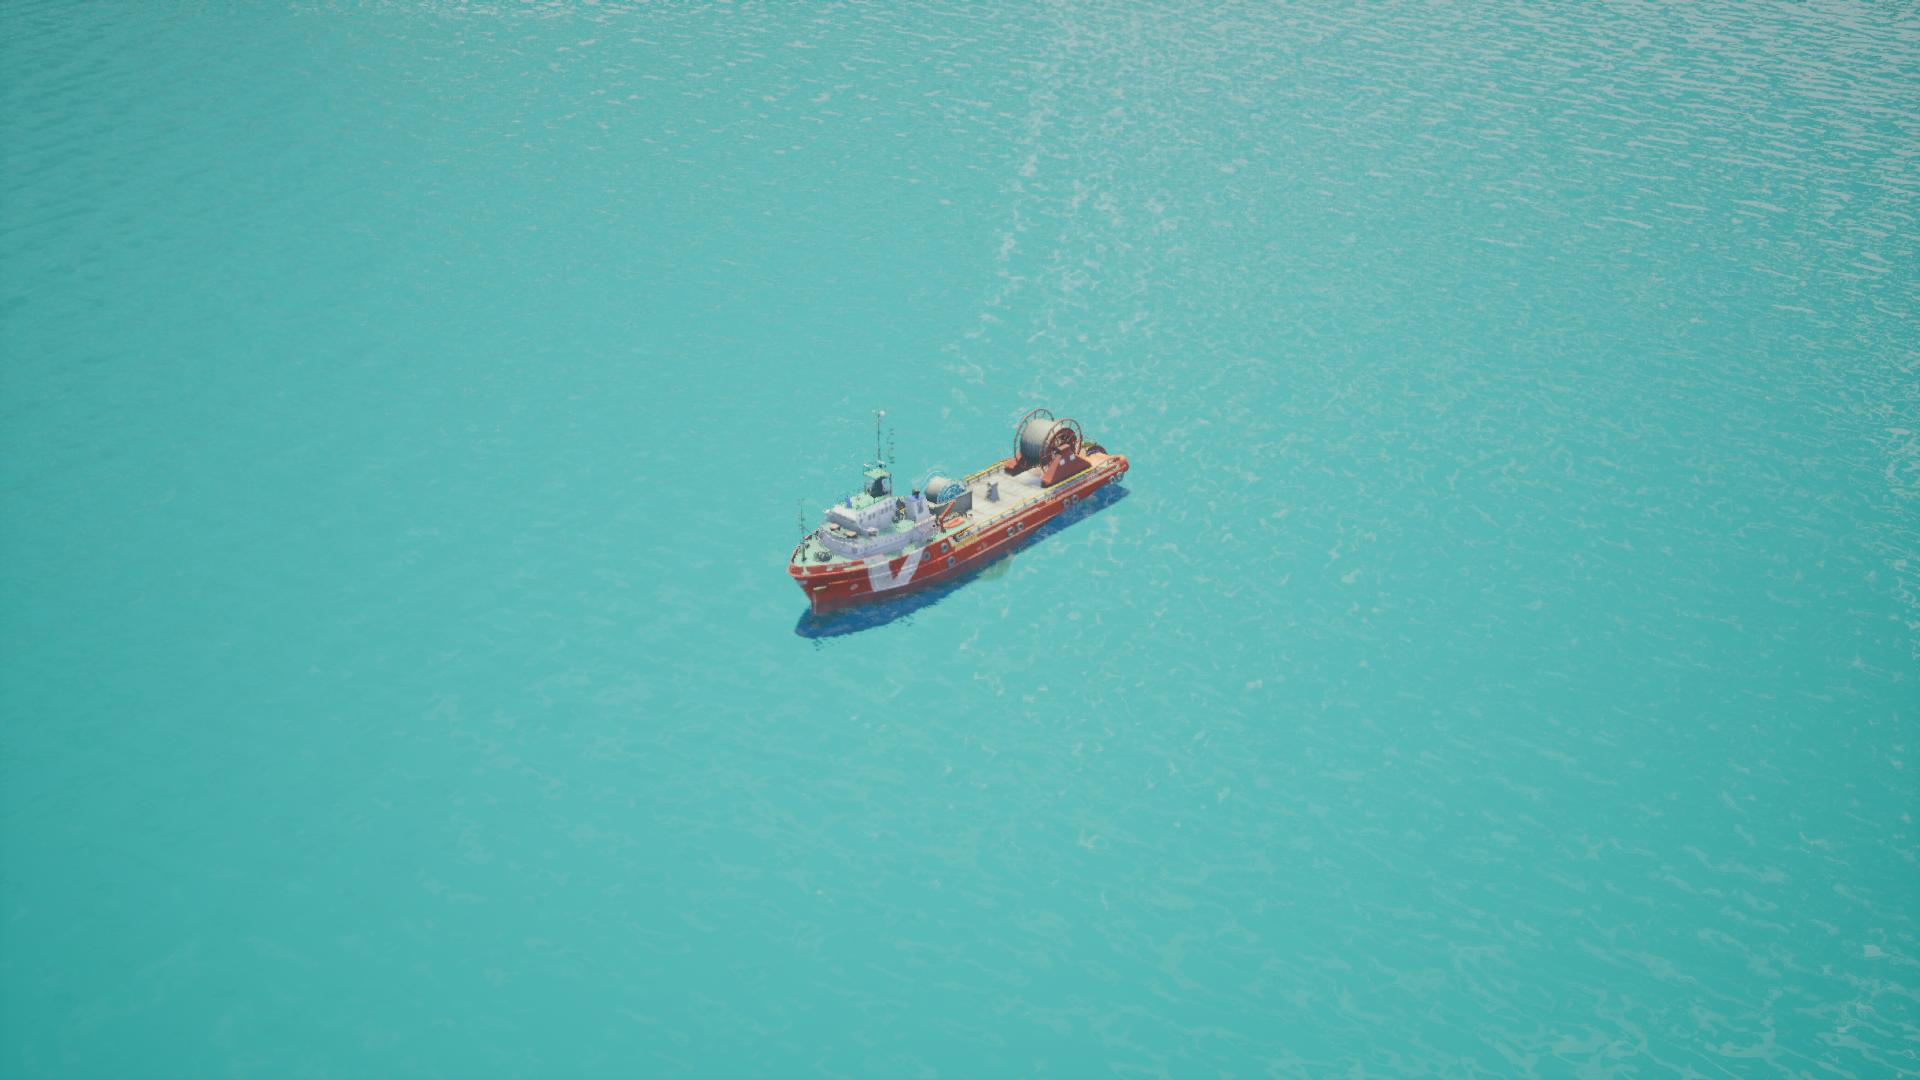Tug Boat: (783, 411, 1139, 636)
